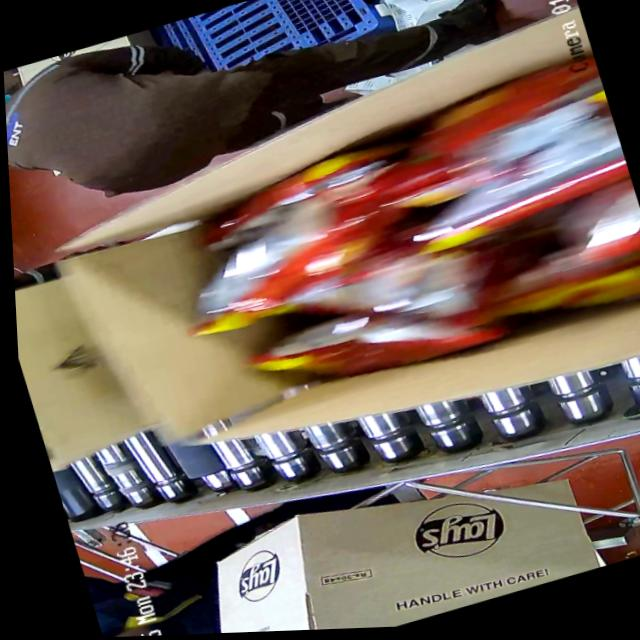MASALA: (147, 56, 640, 421)
